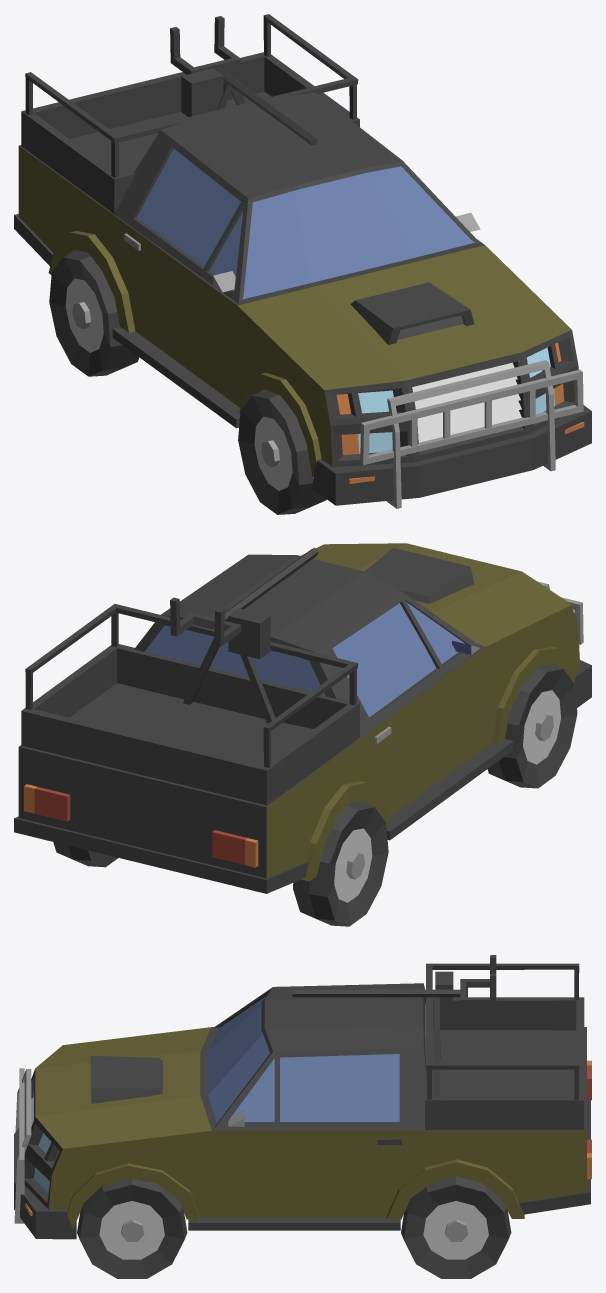
The model's file is transport_purpose_009.glb.
3 renders of one model, top to bottom at view 1: azimuth 30°, elevation 25°; view 2: azimuth 150°, elevation 25°; view 3: azimuth 270°, elevation 25°, orthographic. The views are drawn at different scales.
Visible parts, largest first — view 1: transport_purpose_009; view 2: transport_purpose_009; view 3: transport_purpose_009.
Part boxes in pixels (left/top/right/bottom): transport_purpose_009: left=14, top=14, right=591, bottom=514; transport_purpose_009: left=14, top=543, right=591, bottom=926; transport_purpose_009: left=14, top=955, right=591, bottom=1278.
Bounding box in the file's own units: 1.76 × 1.81 × 3.68.
Materials: 1 (1 with a texture image).
